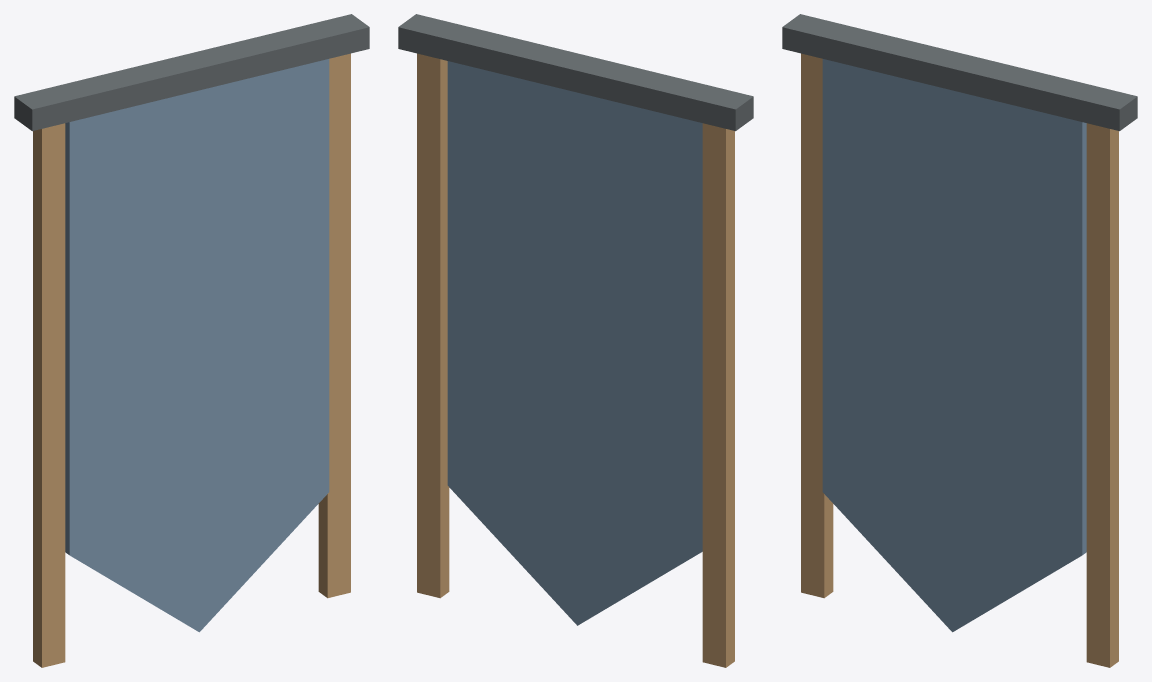
Rendered from wall-banner.glb.
The picture shows the model from 3 angles, left to right: view 1: azimuth 30°, elevation 25°; view 2: azimuth 150°, elevation 25°; view 3: azimuth 330°, elevation 25°; orthographic projection.
Parts seen in each view (by area): view 1: wall-banner; view 2: wall-banner; view 3: wall-banner.
Part boxes in pixels (box(x1,y1,x2,y2)): wall-banner: box(14, 14, 369, 667); wall-banner: box(398, 14, 753, 667); wall-banner: box(782, 14, 1137, 667).
Bounding box in the file's own units: 1.3 × 2.08 × 0.12.
